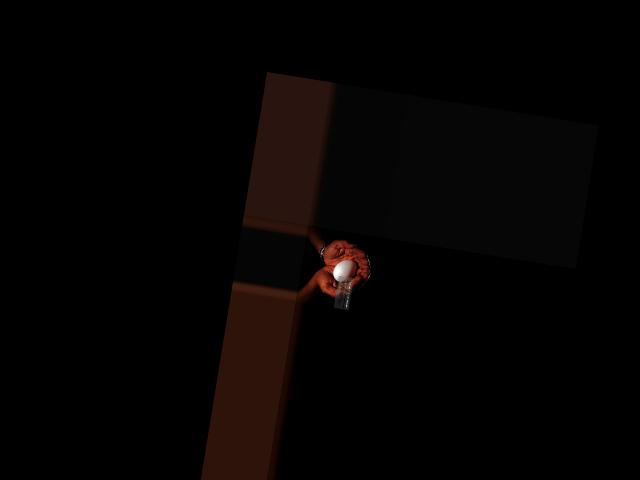egg: (332, 257, 358, 284)
